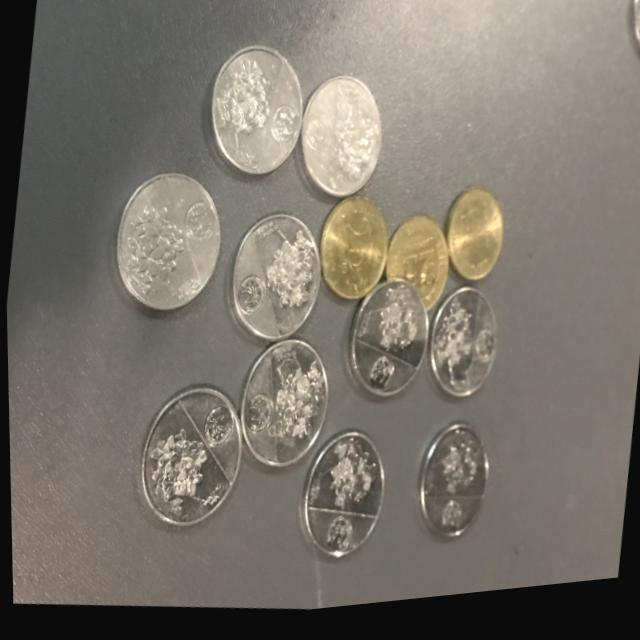1_New_Back: (115, 190, 192, 309), (137, 419, 213, 523)
